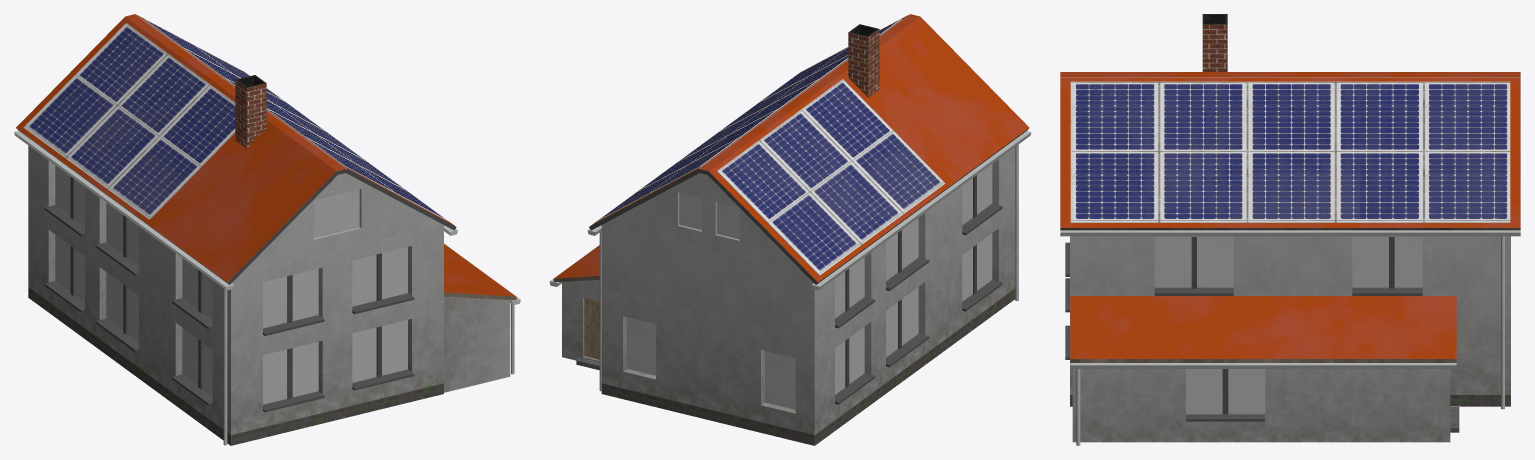
File: big_haus.fbx
The picture shows the model from 3 angles, left to right: view 1: azimuth 30°, elevation 25°; view 2: azimuth 150°, elevation 25°; view 3: azimuth 270°, elevation 25°; orthographic projection. The views are drawn at different scales.
Parts seen in each view (by area): view 1: big_haus_LOD0; view 2: big_haus_LOD0; view 3: big_haus_LOD0.
Boxes of the visible parts, x1=… form: big_haus_LOD0: x1=14, y1=14, x2=520, y2=445; big_haus_LOD0: x1=549, y1=14, x2=1031, y2=445; big_haus_LOD0: x1=1060, y1=14, x2=1520, y2=445.
Size of what is drawn, in the model's own units: 13.95 by 13.09 by 17.05.
